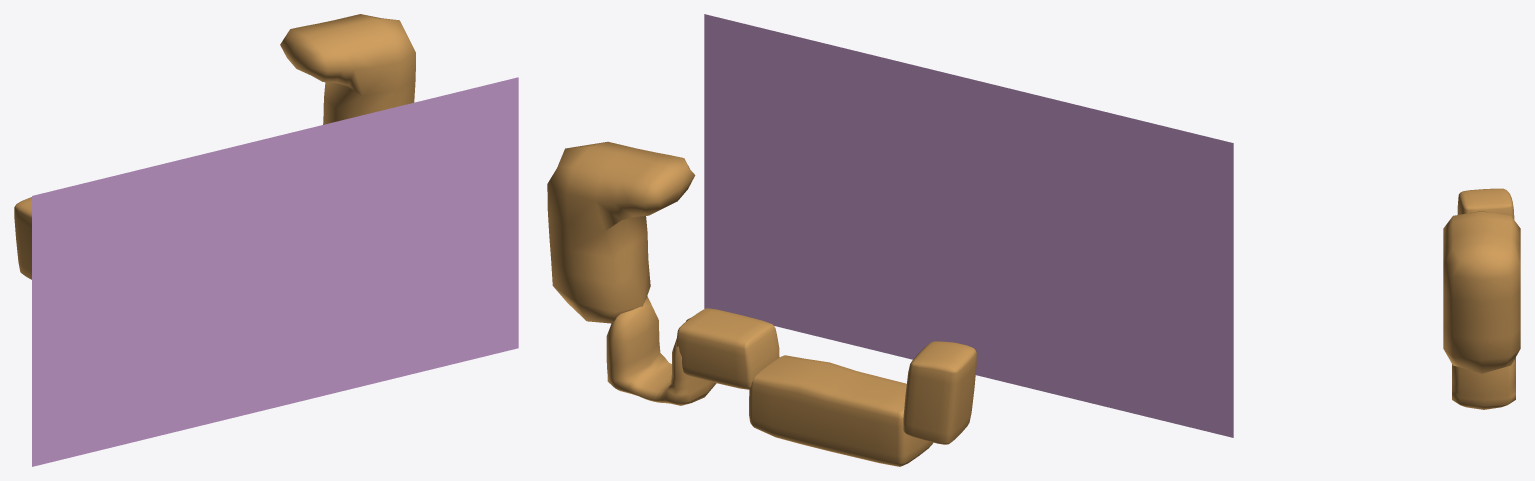
The model's file is test_level1.fbx.
3 views of the same model, side by side, from view 1: azimuth 30°, elevation 25°; view 2: azimuth 150°, elevation 25°; view 3: azimuth 270°, elevation 25° (orthographic). The views are drawn at different scales.
Visible parts, largest first — view 1: pPlane1, pCube4, pasted__pCube1; view 2: pPlane1, pCube4, pCube2, pasted__pCube1, pCube3, pCube1; view 3: pCube4, pCube3, pasted__pCube1.
Part boxes in pixels (box(x1,y1,x2,y2)): pPlane1: box(32, 77, 518, 466); pCube4: box(280, 14, 415, 124); pasted__pCube1: box(14, 197, 31, 279); pPlane1: box(704, 14, 1233, 437); pCube4: box(547, 141, 695, 323); pCube2: box(749, 355, 932, 466); pasted__pCube1: box(903, 341, 976, 444); pCube3: box(606, 296, 716, 405); pCube1: box(676, 308, 779, 389); pCube4: box(1443, 211, 1520, 373); pCube3: box(1452, 357, 1515, 409); pasted__pCube1: box(1457, 188, 1514, 219).
Size of the model in its own units: 19.34 by 10.04 by 9.74.
